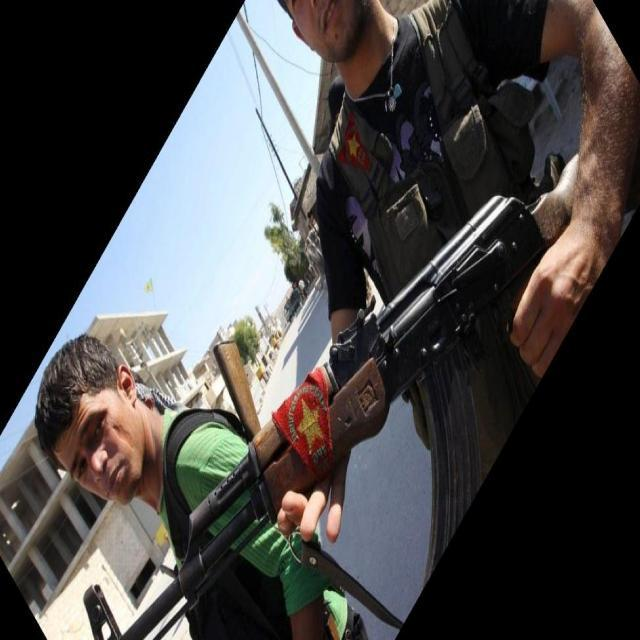weapon: (81, 153, 598, 640), (211, 337, 263, 438)
